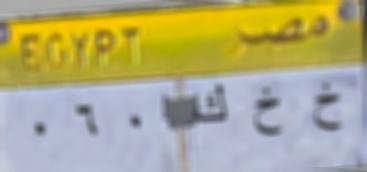0: (24, 114, 52, 145), (124, 100, 145, 140)
6: (67, 99, 101, 144)
kaaf: (190, 80, 232, 138)
khaa: (247, 85, 288, 144), (310, 80, 343, 136)
